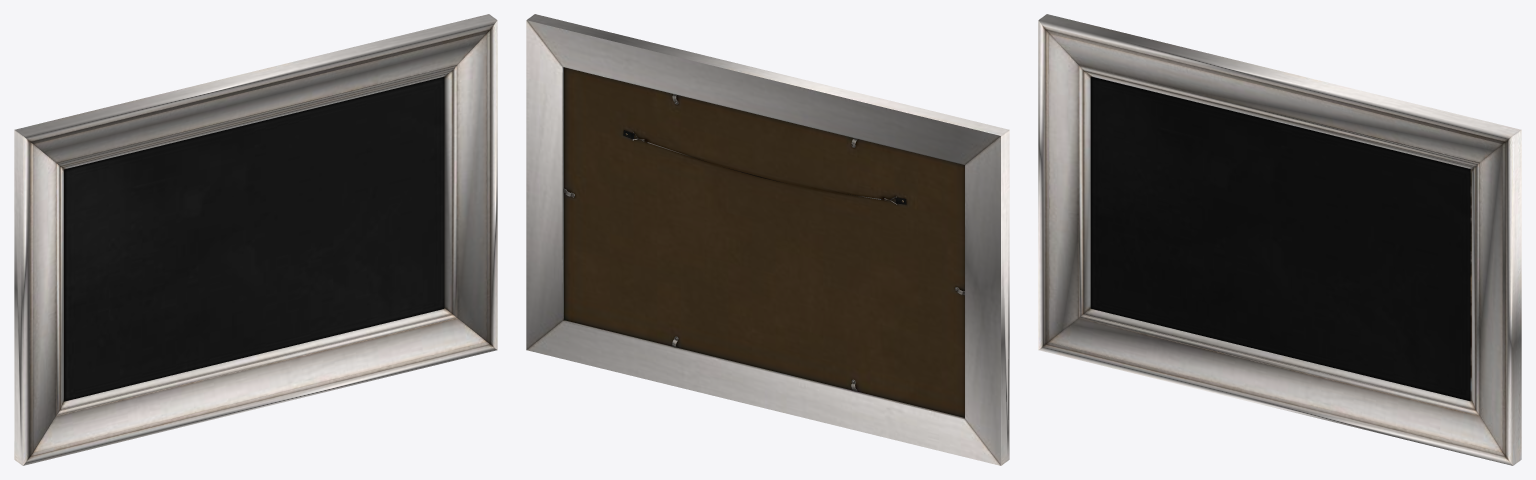
Rendered from ph-hanging-picture-frame-02-lite.glb.
The picture shows the model from 3 angles, left to right: view 1: azimuth 30°, elevation 25°; view 2: azimuth 150°, elevation 25°; view 3: azimuth 330°, elevation 25°; orthographic projection.
Visible parts, largest first — view 1: hanging_picture_frame_02; view 2: hanging_picture_frame_02; view 3: hanging_picture_frame_02.
Boxes of the visible parts, left/top/right/bottom form: hanging_picture_frame_02: left=14, top=14, right=497, bottom=465; hanging_picture_frame_02: left=526, top=14, right=1009, bottom=465; hanging_picture_frame_02: left=1038, top=14, right=1521, bottom=465.
Size of the model in its own units: 0.7512 by 0.4988 by 0.0236.
Materials: 3 (3 with a texture image).
